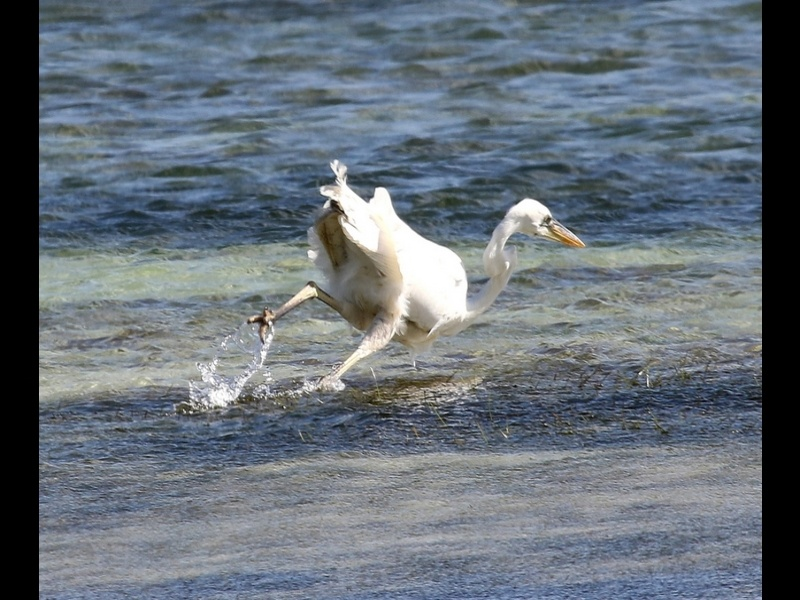heron: (243, 158, 586, 399)
